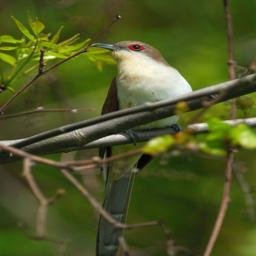Cuckoo: (87, 39, 198, 255)
